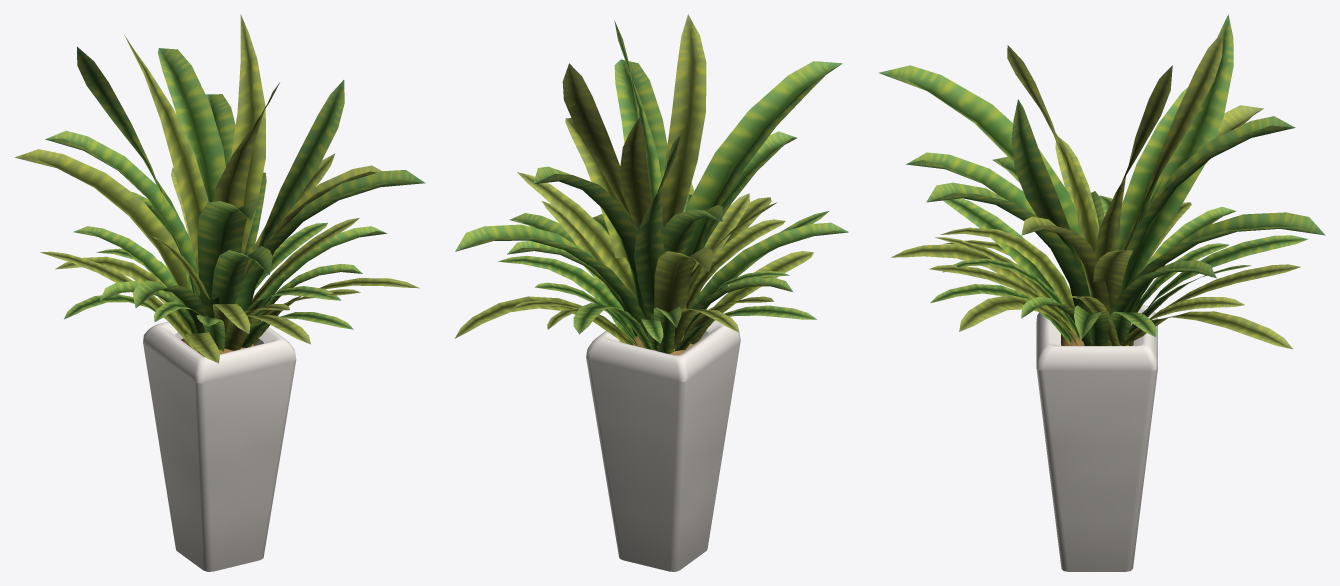
Rendered from SM_Office_Plant_A.fbx.
The picture shows the model from 3 angles, left to right: view 1: azimuth 30°, elevation 25°; view 2: azimuth 150°, elevation 25°; view 3: azimuth 270°, elevation 25°; orthographic projection. The views are drawn at different scales.
Visible parts, largest first — view 1: SM_Office_Plant_05; view 2: SM_Office_Plant_05; view 3: SM_Office_Plant_05.
Part boxes in pixels (x1=…): SM_Office_Plant_05: x1=14, y1=14, x2=425, y2=571; SM_Office_Plant_05: x1=454, y1=14, x2=848, y2=571; SM_Office_Plant_05: x1=878, y1=14, x2=1325, y2=571.
Size of the model in its own units: 105 by 159 by 123.
Materials: 1 (1 with a texture image).
